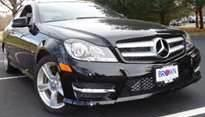front_view: (59, 28, 199, 98)
headlight: (61, 37, 126, 67)
side_glass: (7, 5, 44, 30)
